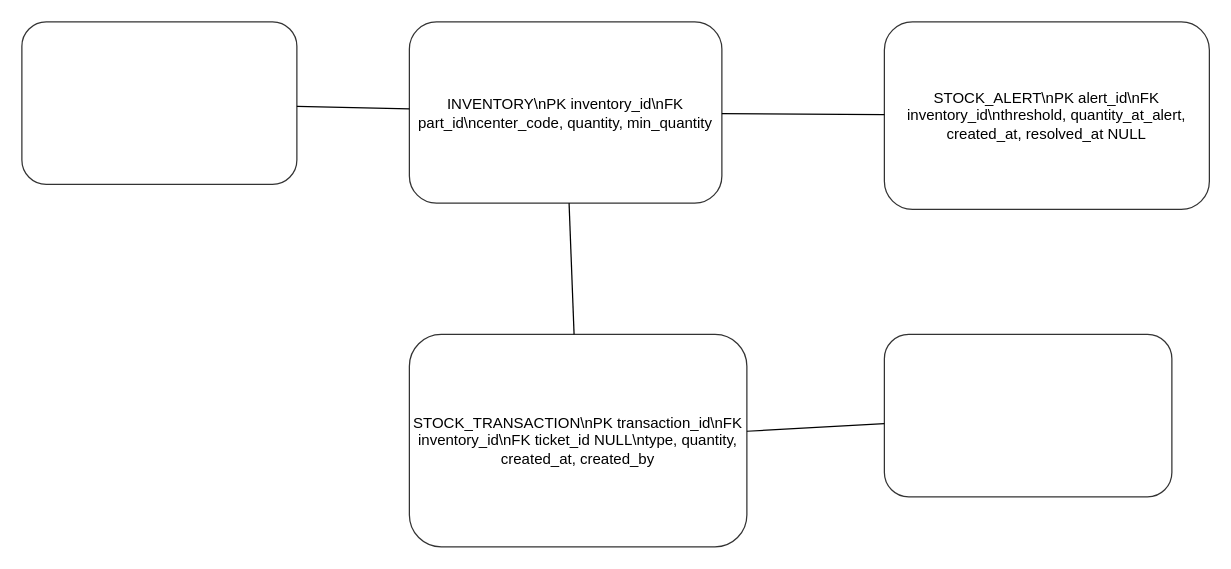
This 1231x569 diagram has some shape labels left out. The centre of each missing label's shape, as x and y in pixels:
PART\nPK part_id\nUQ part_code\nname, unit, description: the point at 159,102
WARRANTY_TICKET\nPK ticket_id\nUQ ticket_code\nstatus, created_at: the point at 1027,415
